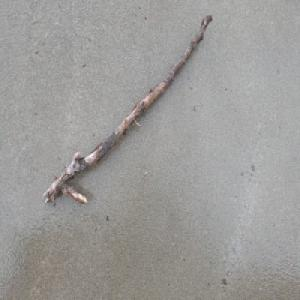Wood: (41, 12, 214, 204)
